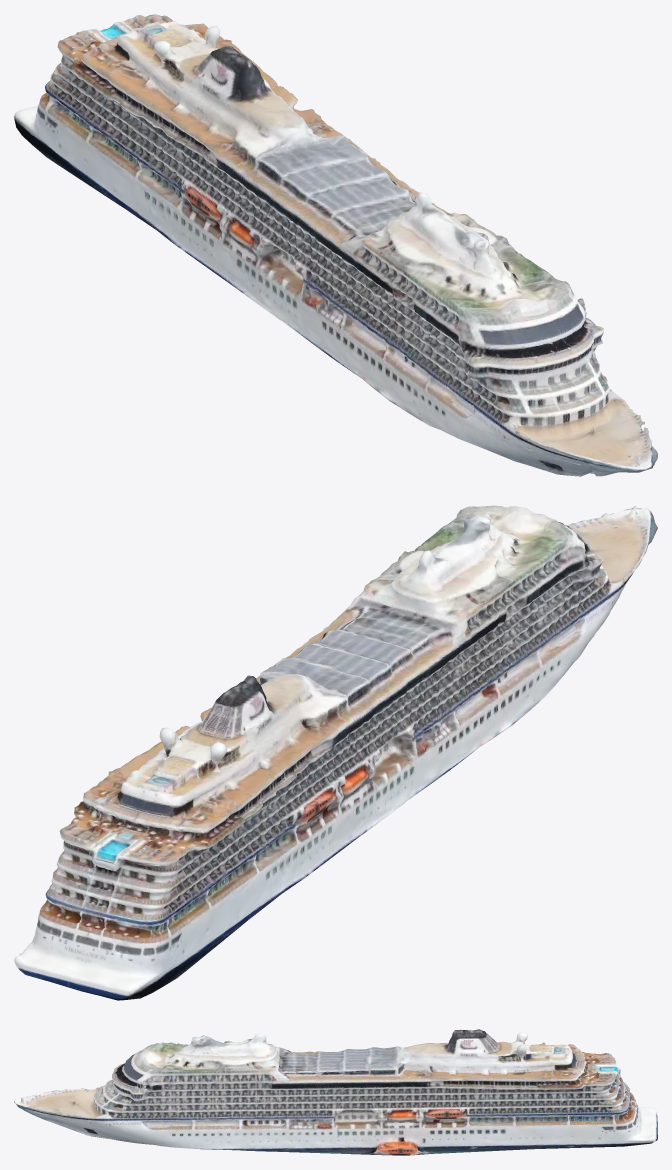
Rendered from cruise.glb.
3 views of the same model, one above another, from view 1: azimuth 30°, elevation 25°; view 2: azimuth 150°, elevation 25°; view 3: azimuth 270°, elevation 25° (orthographic). The views are drawn at different scales.
Visible parts, largest first — view 1: Object_2; view 2: Object_2; view 3: Object_2.
Part boxes in pixels (x1,y1,x2,y2): Object_2: (14,14,657,476); Object_2: (14,505,657,1000); Object_2: (14,1029,657,1155).
Size of the model in its own units: 0.1933 by 0.2168 by 1.23.
Materials: 1 (1 with a texture image).
